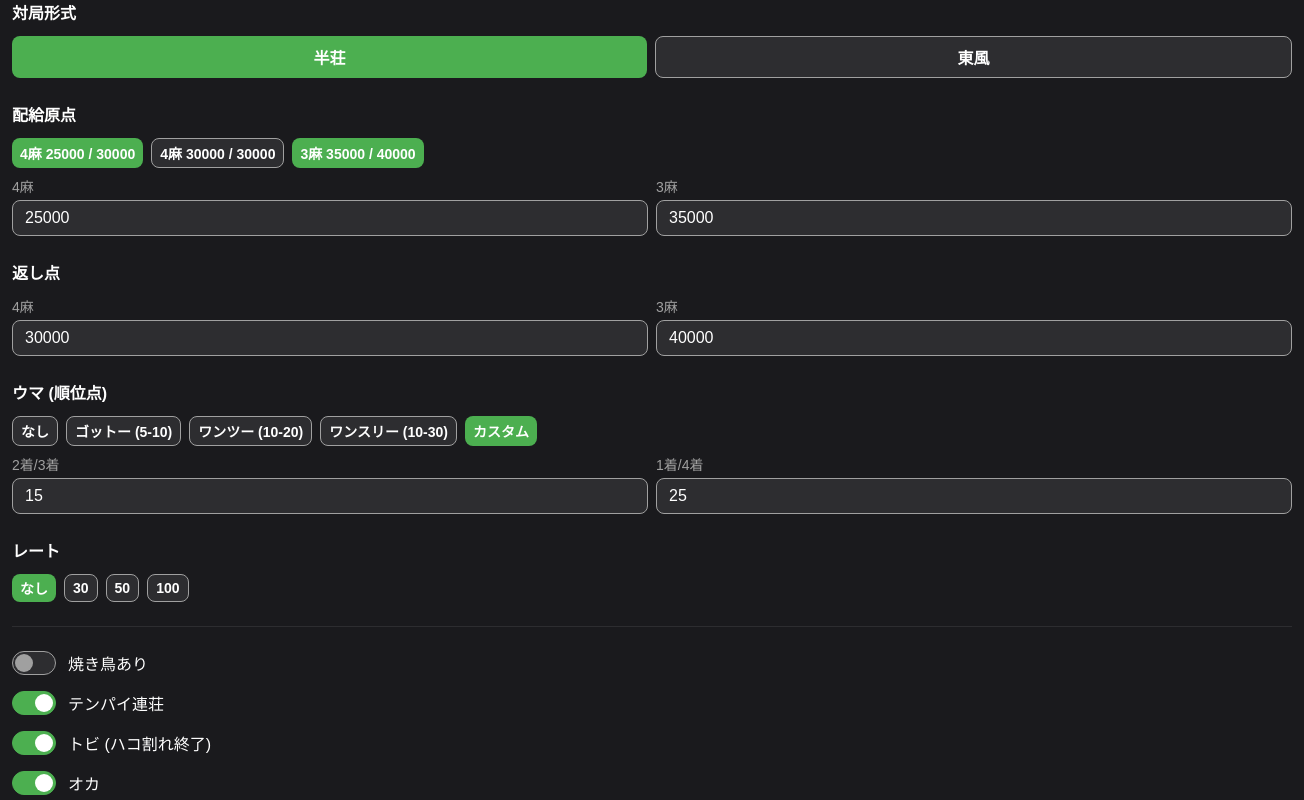
Test: CompetitionRuleSettings › normalizes point inputs to 1000-point units
Replace the text in the 1st number field with "25666" at (330, 218), box [12, 200, 648, 236]
(page scrolled)
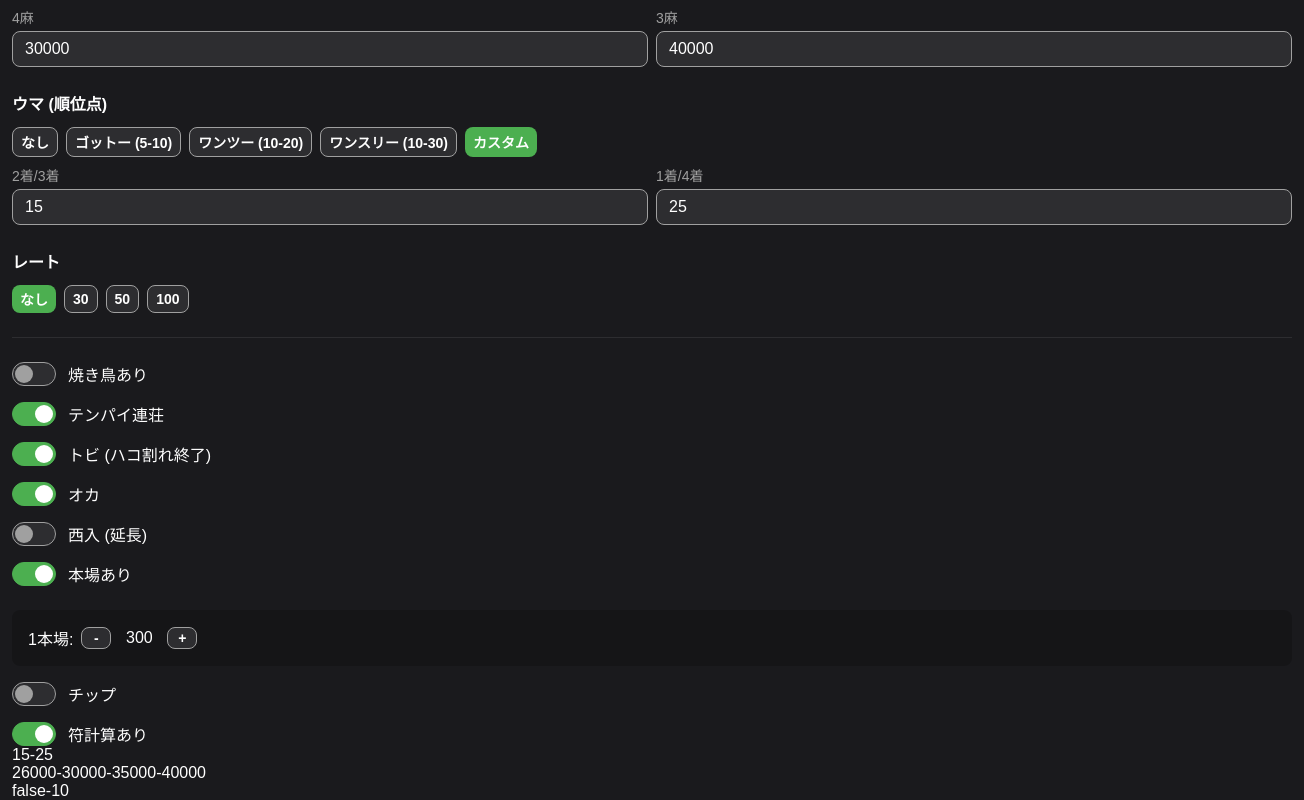
expect the text with test id "point-value" reads "26000-30000-35000-40000": met, box [12, 764, 206, 781]
